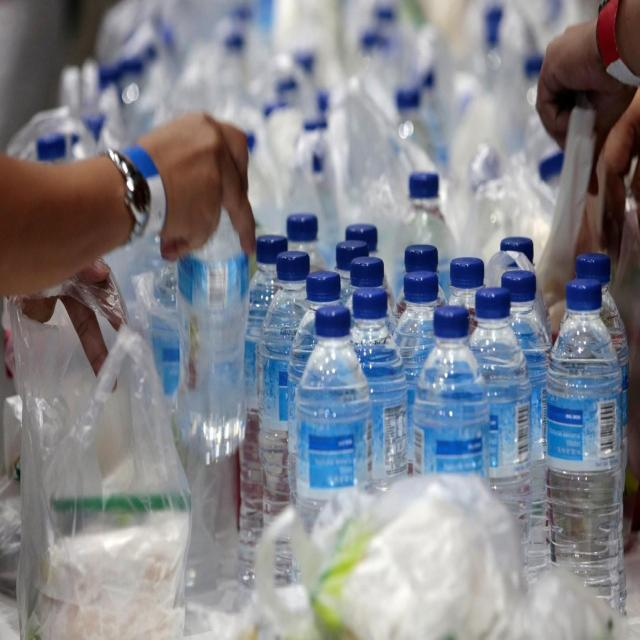bottle: (540, 266, 632, 621)
